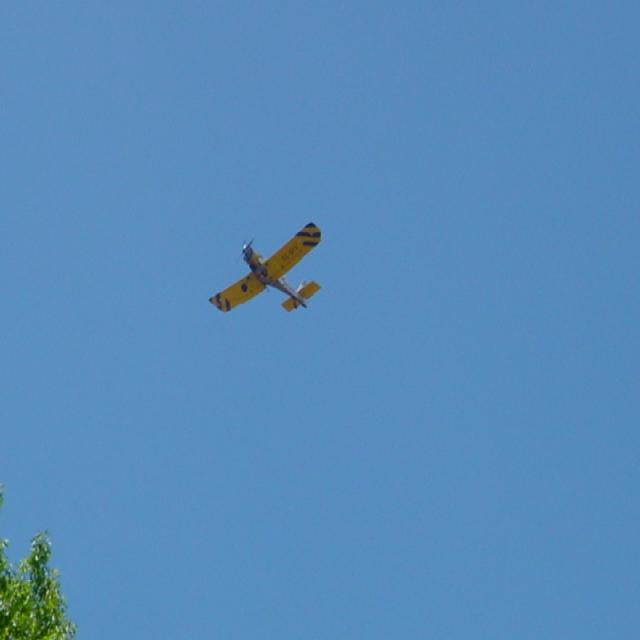airplane: (207, 221, 323, 315)
